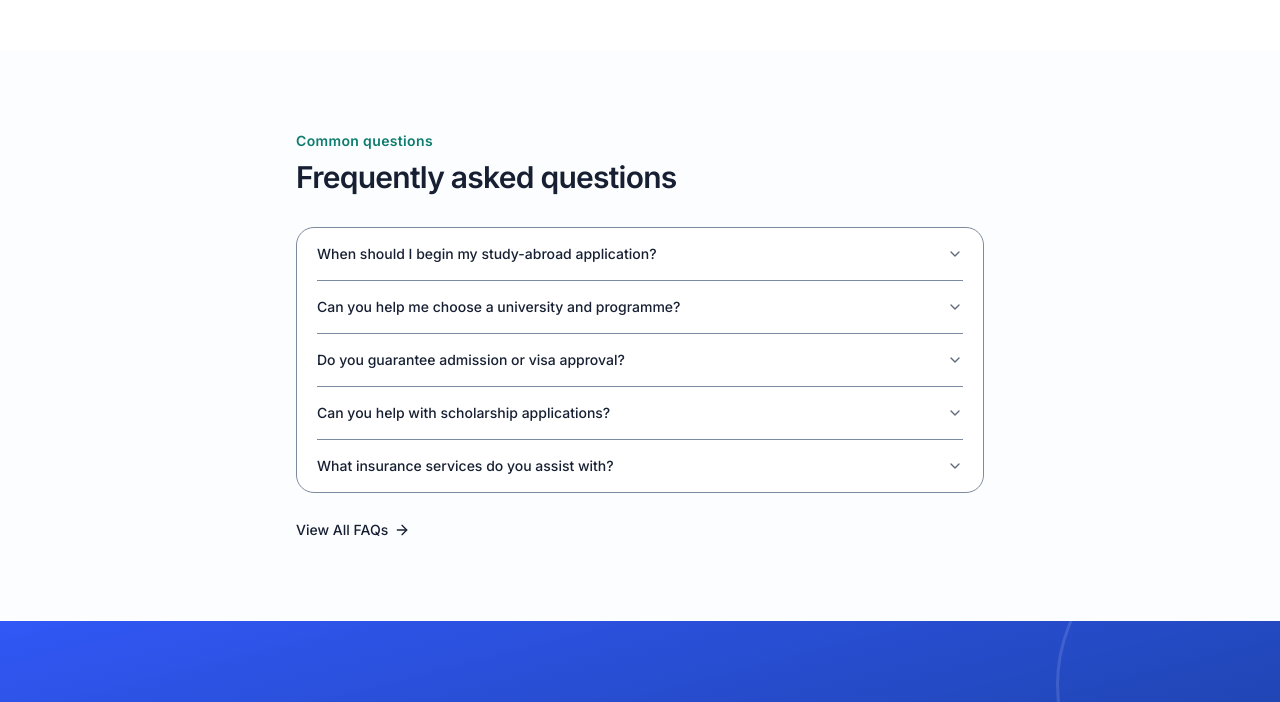
Scenario: HomePage › renders an accessible FAQ accordion that can be expanded
(page scrolled)
Click the button "Do you guarantee admission or visa approval?": (471, 360) [317,334,963,386]
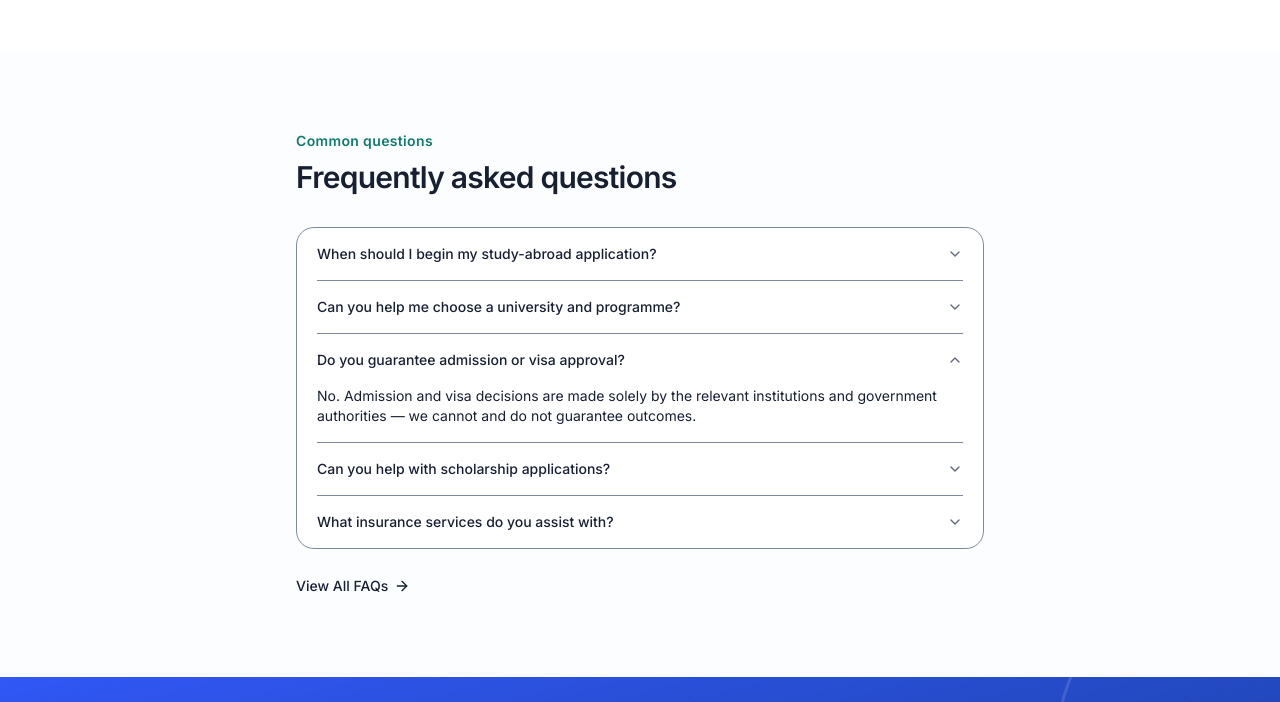
Expected: the button "Do you guarantee admission or visa approval?" is expanded, [317,334,963,386]
Expected: the text "Admission and visa decisions are made solely" is shown, [317,387,937,424]
